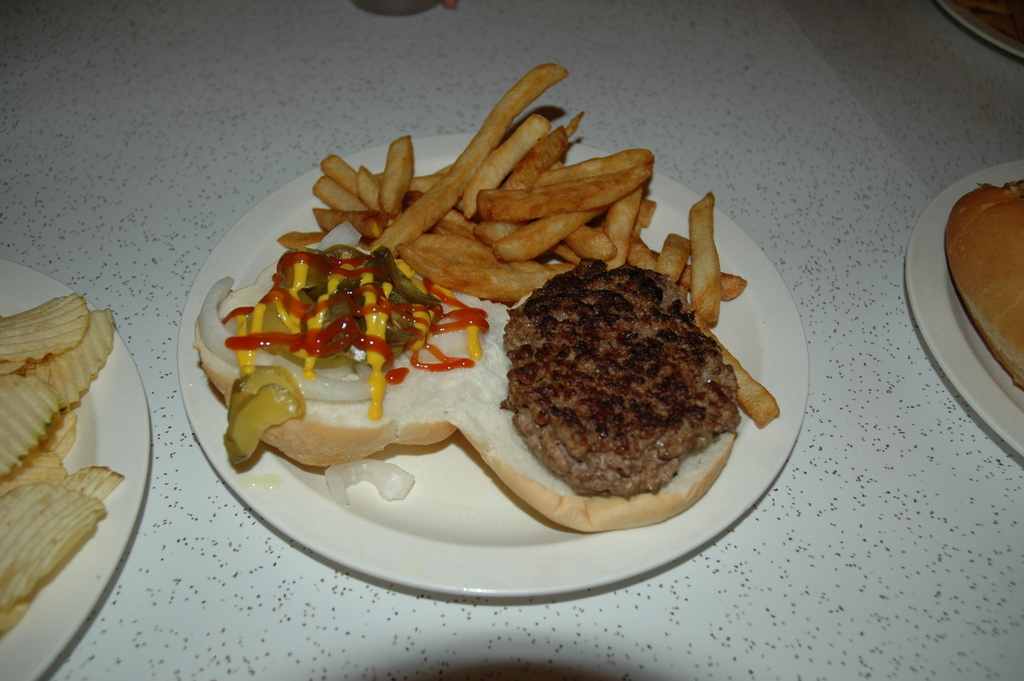French fries: (280, 53, 782, 434)
